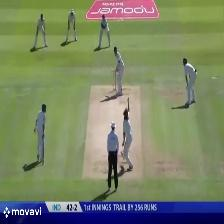batsman: (110, 44, 127, 98)
